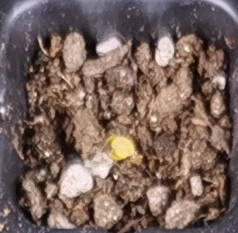pepper seed: (35, 54, 170, 216)
